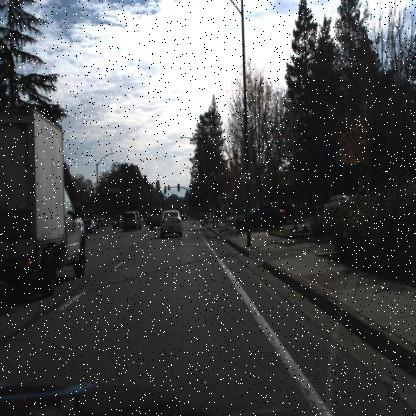car: (232, 202, 288, 233), (344, 182, 385, 210), (320, 191, 351, 220), (324, 193, 350, 225), (158, 206, 182, 236), (148, 205, 162, 228), (124, 212, 138, 232), (111, 212, 124, 233)
truck: (0, 101, 89, 310)
